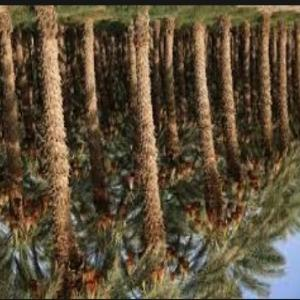palm tree: (0, 4, 299, 299)
